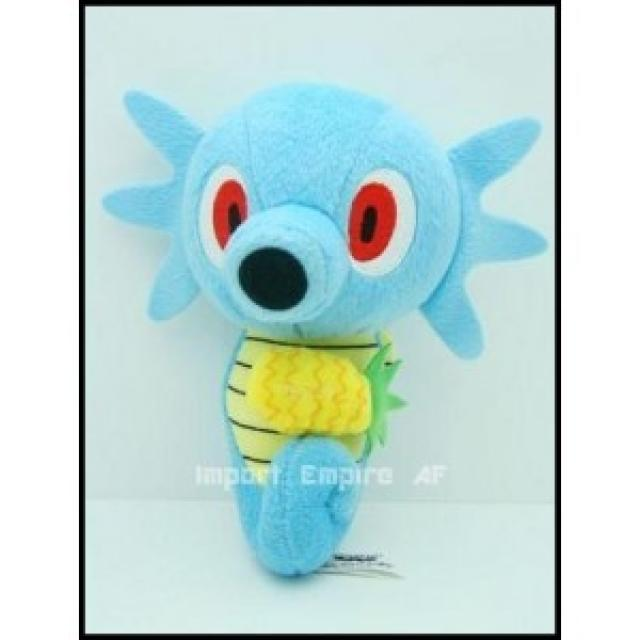Horsea: (93, 62, 539, 587)
